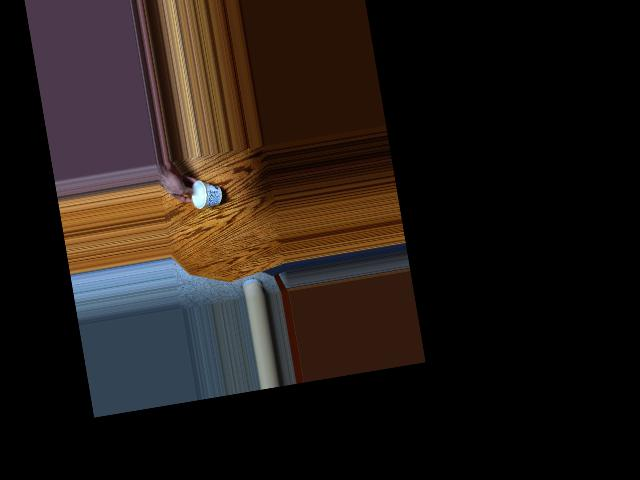cotage: (187, 176, 222, 212)
